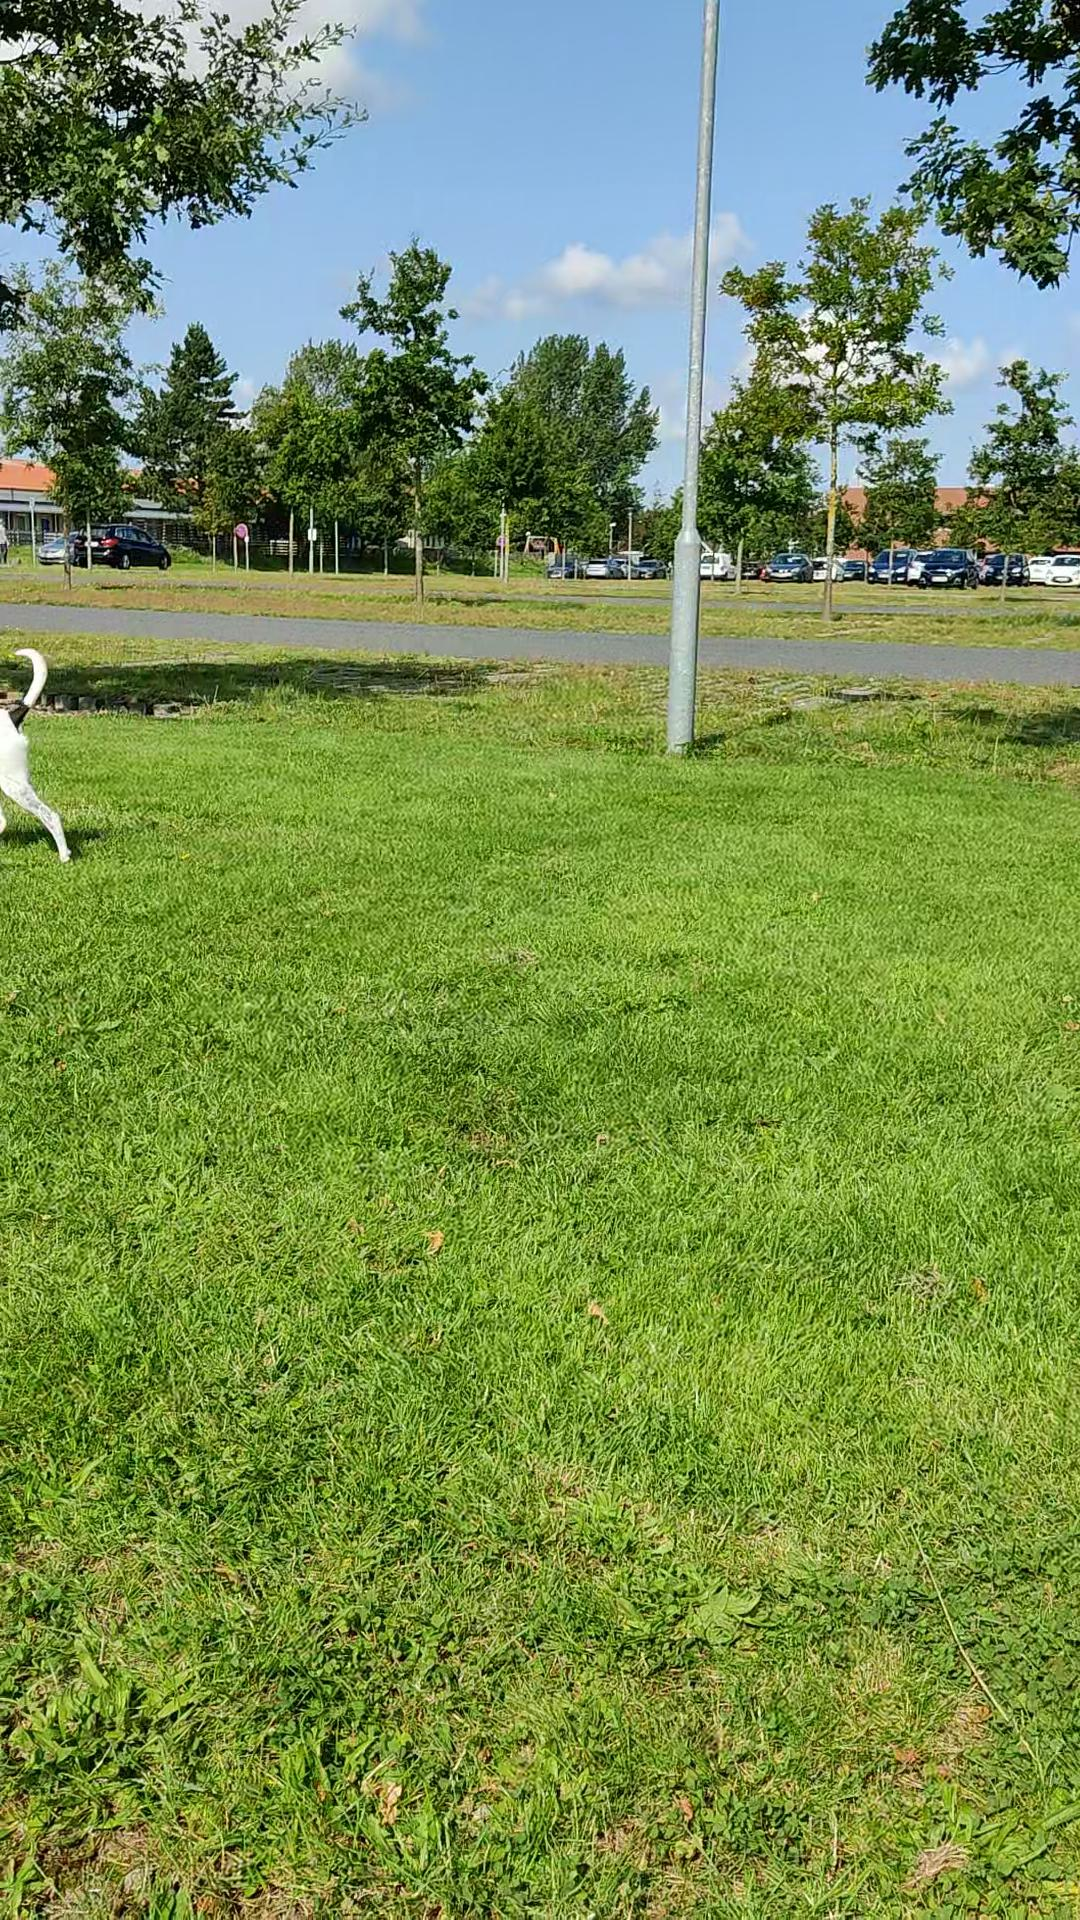Dog: (0, 644, 76, 866)
